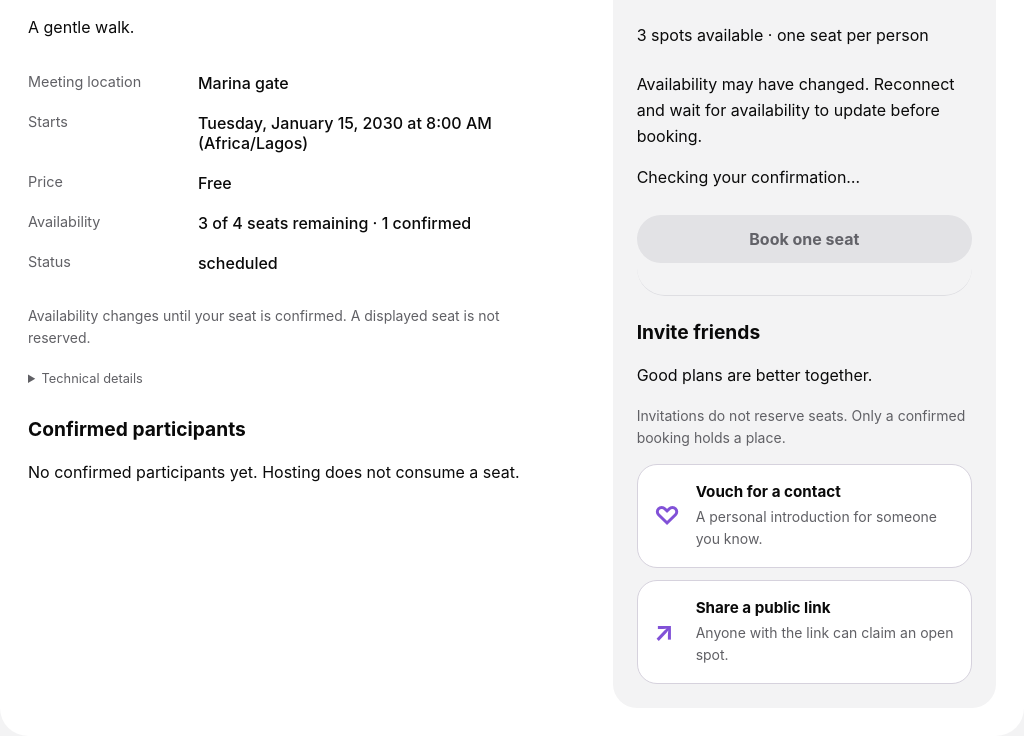
Test case: explains public trust and remaining seats before creating, then offers a copyable link
(page scrolled)
Click the button "Share a public link" at {"x": 804, "y": 632}, box 637,580 -> 972,684
(page scrolled)
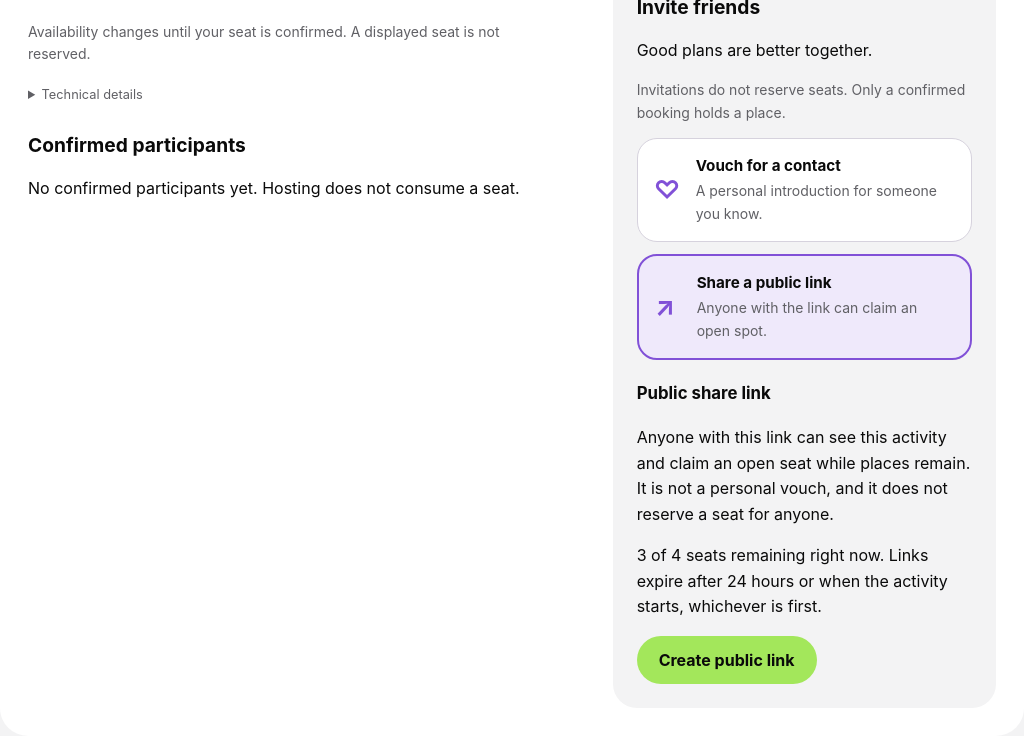
Expected: the text "3 of 4 seats remaining" is shown, 637,543 -> 972,620
Expected: the text "not a personal vouch" is shown, 637,427 -> 970,524
Click the button "Create public link" at {"x": 727, "y": 660}, box 637,636 -> 817,684
(page scrolled)
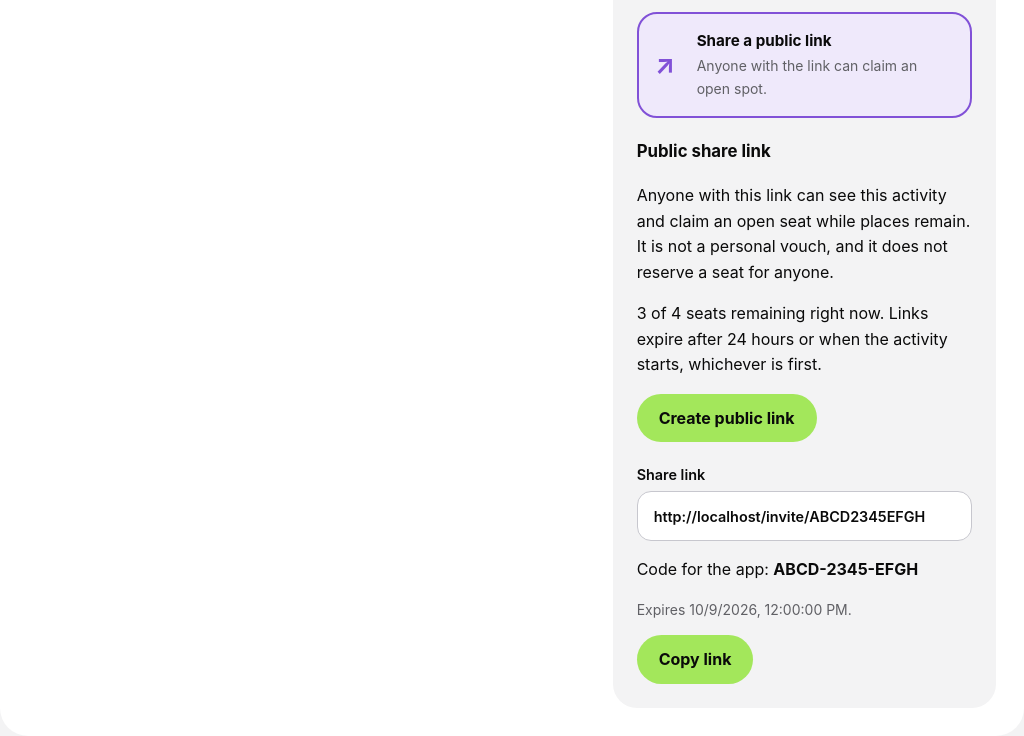
Expected: the text "ABCD-2345-EFGH" is shown, 773,560 -> 918,580
Click the button "Copy link" at {"x": 695, "y": 660}, box 637,636 -> 754,684
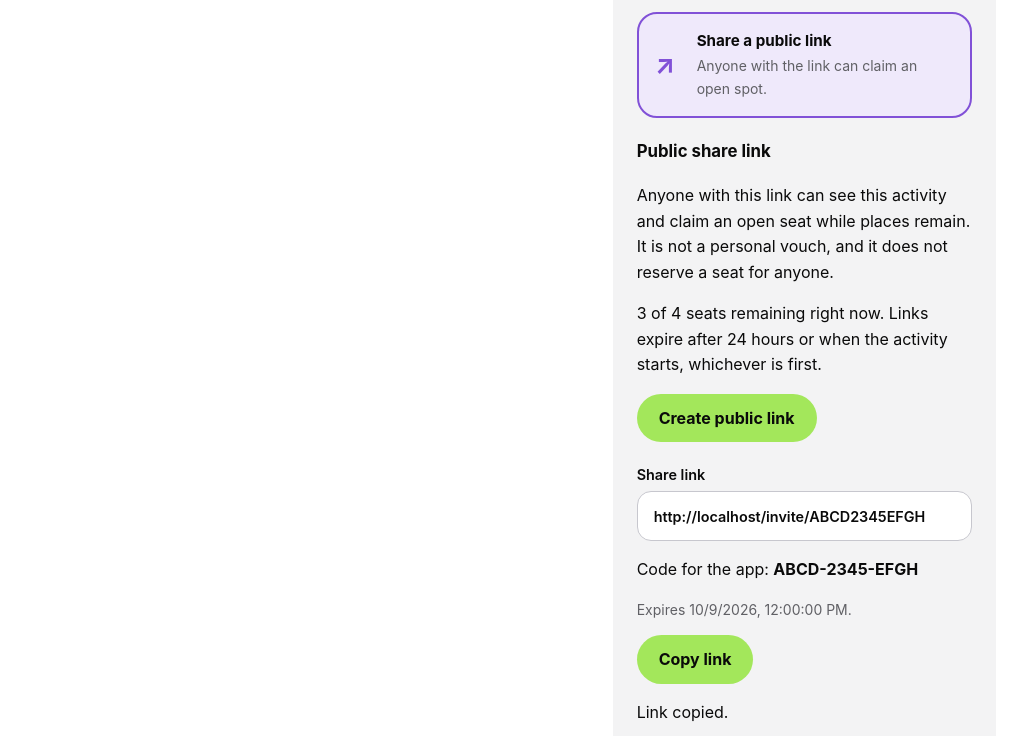
Expected: the text "Link copied." is shown, 637,702 -> 728,722
